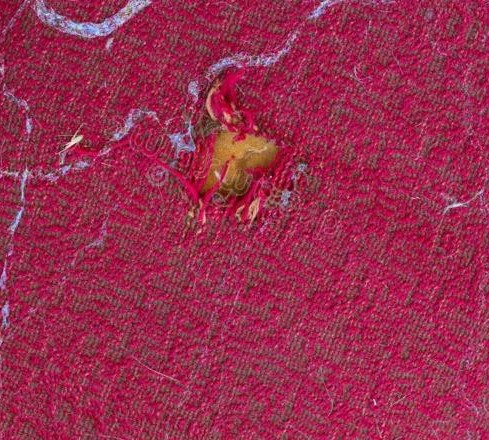hole: (187, 105, 300, 221)
